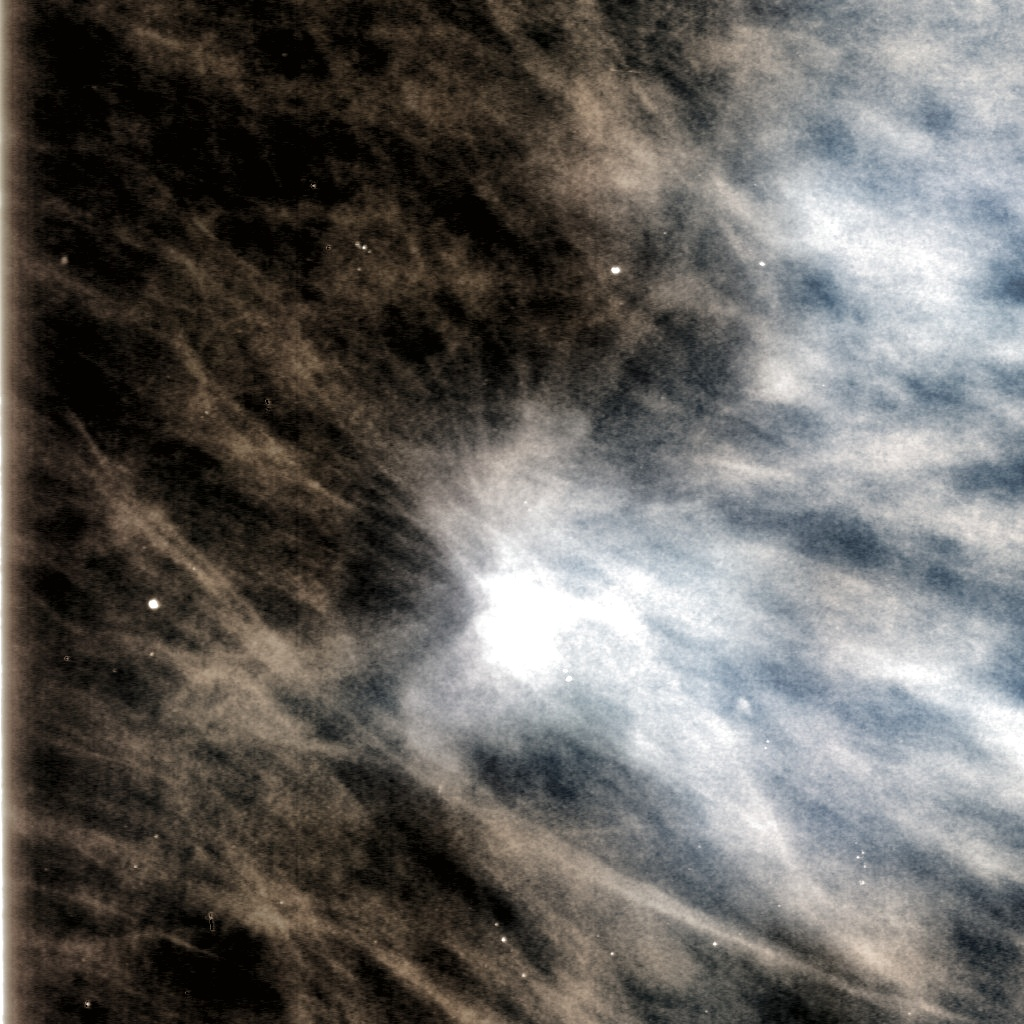tumor: (394, 358, 630, 666)
